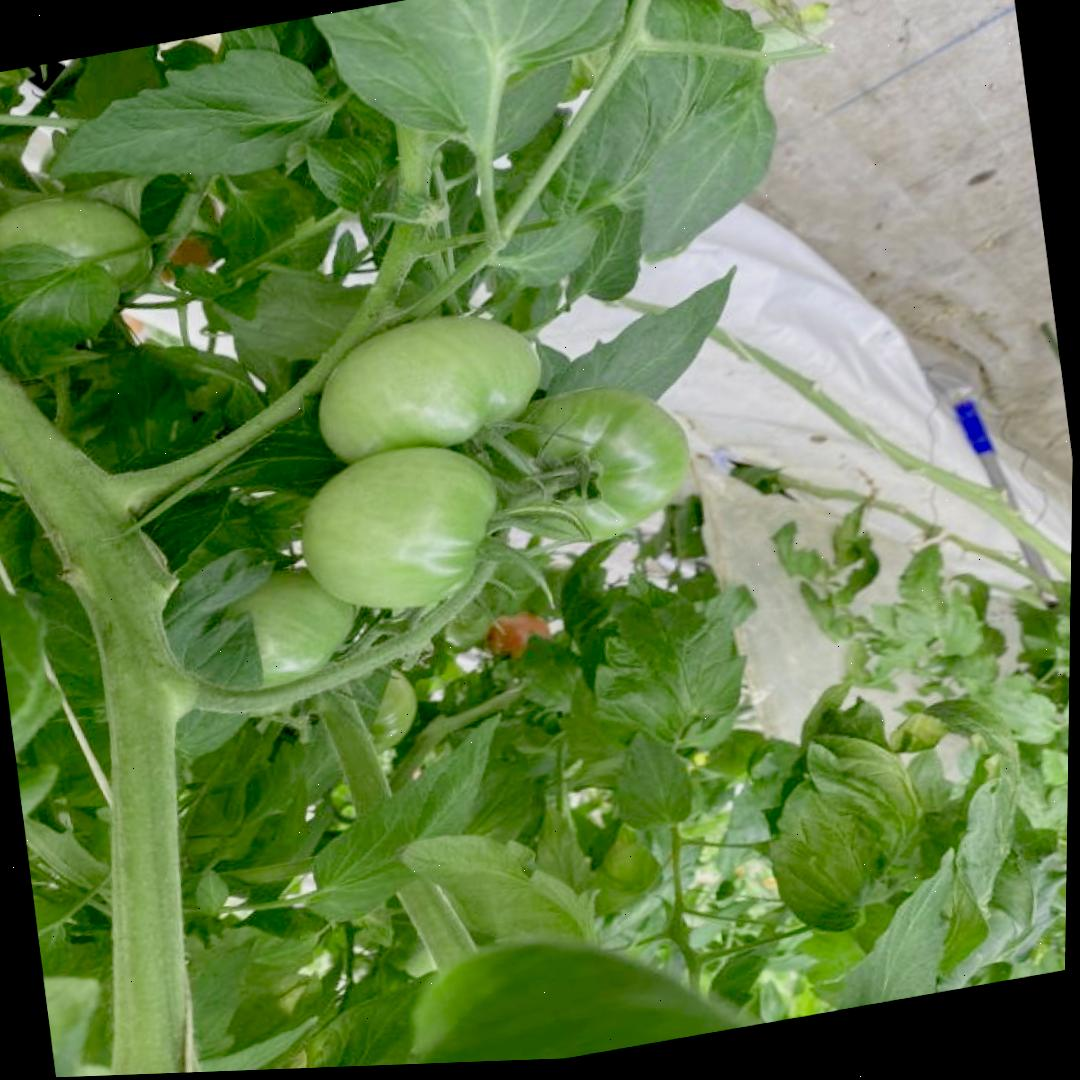mentah: (300, 296, 555, 483), (465, 368, 706, 561), (290, 426, 517, 627)
